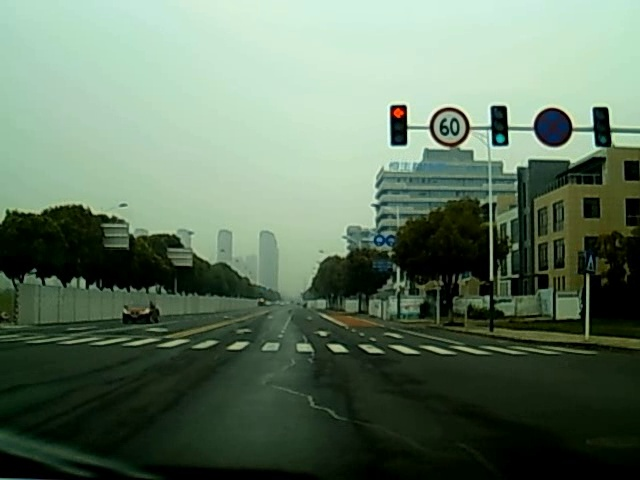Traffic_Light_go: (590, 110, 612, 147), (491, 108, 506, 147)
Traffic_Light_stop: (390, 106, 405, 140)
